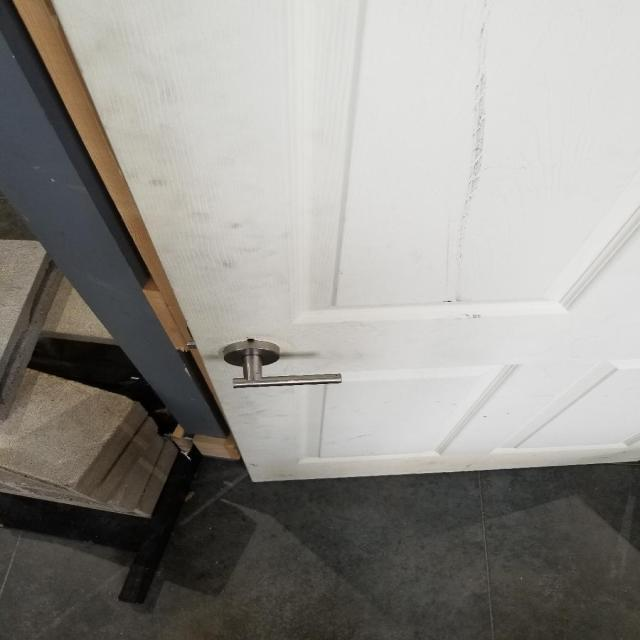door: (221, 338, 345, 393)
